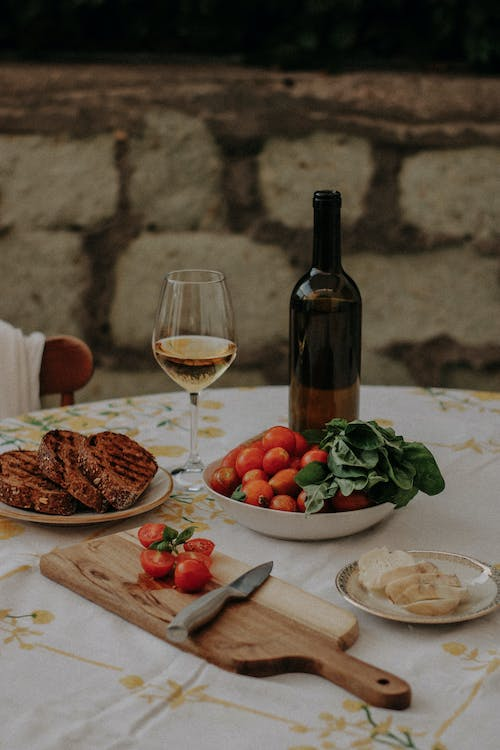alcohol: (148, 266, 239, 494), (284, 188, 364, 433)
knife: (162, 557, 279, 644)
